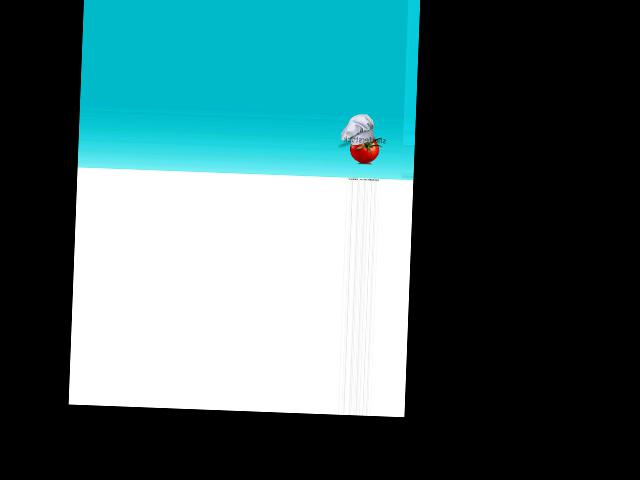tomato: (349, 138, 378, 162)
